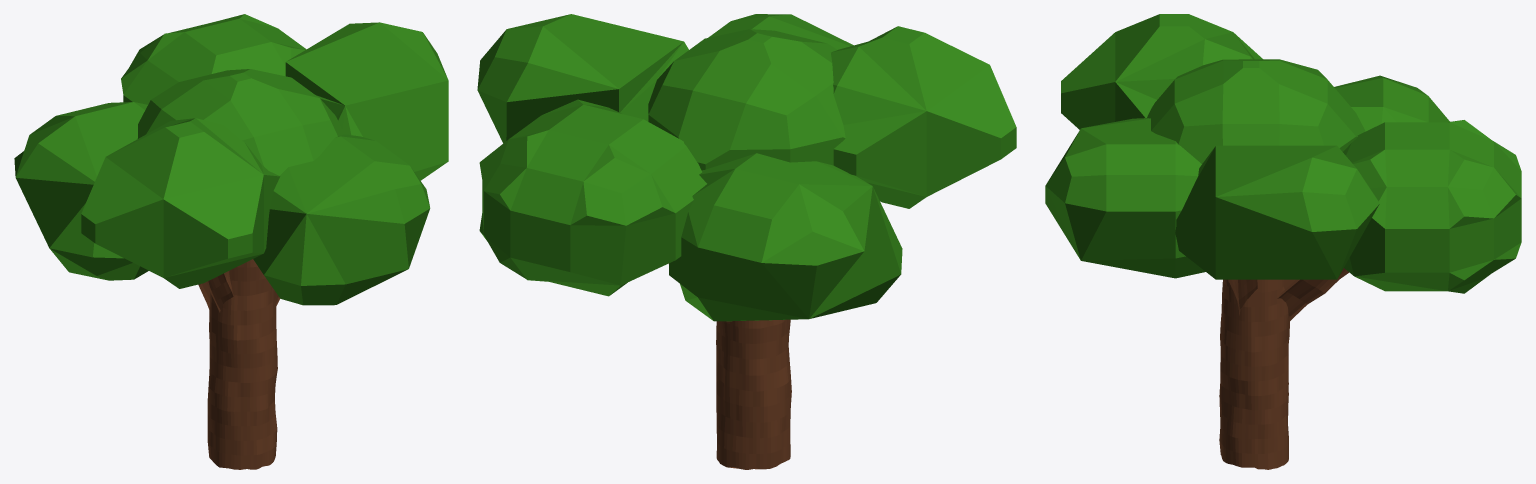
The model's file is tree4.fbx.
The picture shows the model from 3 angles, left to right: view 1: azimuth 30°, elevation 25°; view 2: azimuth 150°, elevation 25°; view 3: azimuth 270°, elevation 25°; orthographic projection. The views are drawn at different scales.
Visible parts, largest first — view 1: Cube.002; view 2: Cube.002; view 3: Cube.002.
Part boxes in pixels (x1,y1,x2,y2): Cube.002: (14, 14, 448, 469); Cube.002: (477, 14, 1016, 469); Cube.002: (1045, 14, 1521, 469).
Size of the model in its own units: 1150 by 1010 by 1117.
